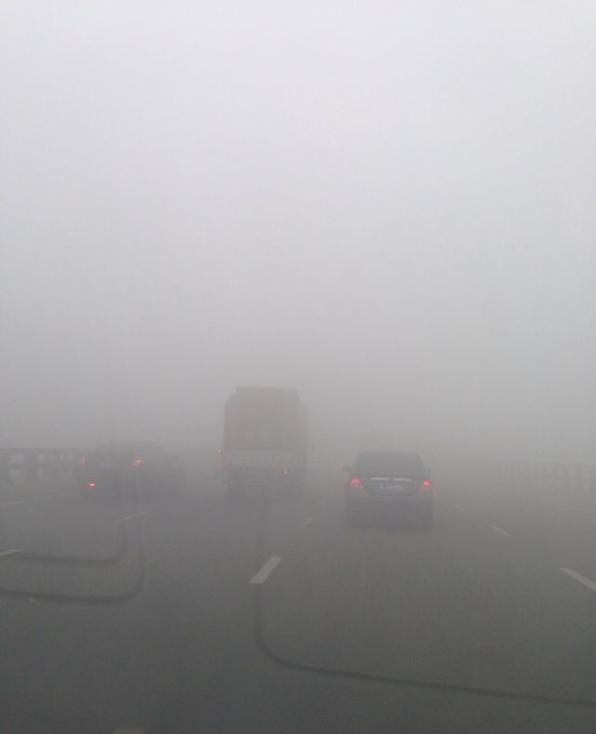bus: (218, 383, 318, 497)
car: (339, 447, 433, 528), (76, 438, 180, 494)
